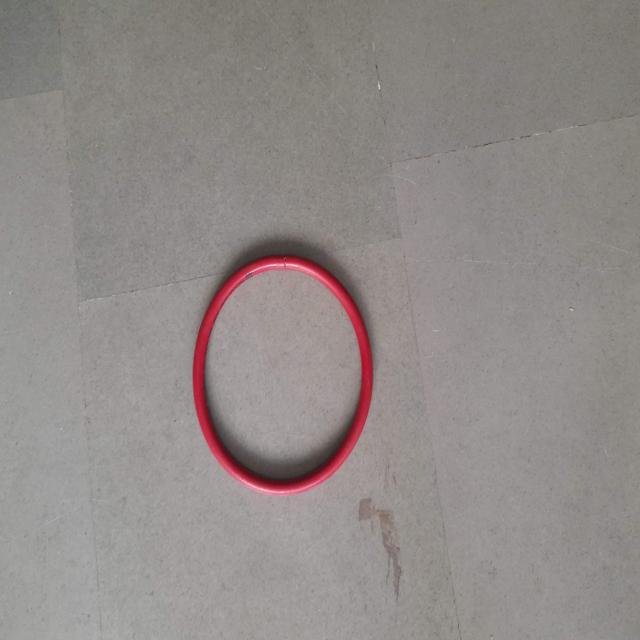daire: (192, 249, 376, 503)
